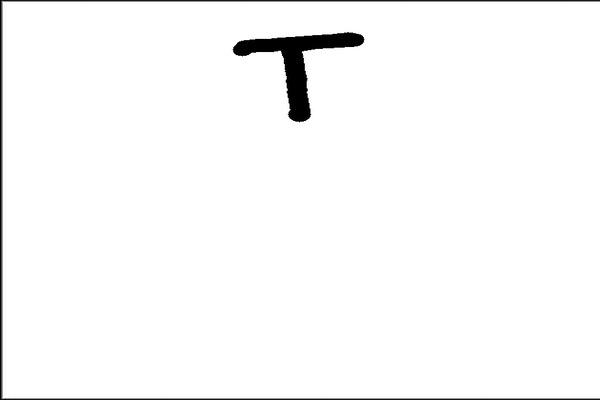T: (228, 26, 376, 124)
